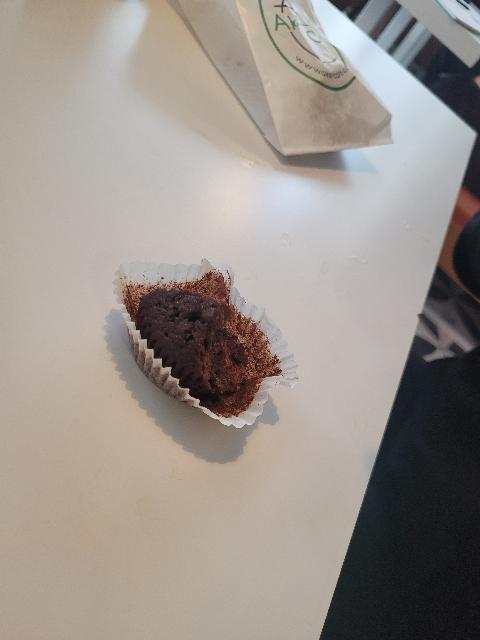Organik: (142, 293, 247, 398)
